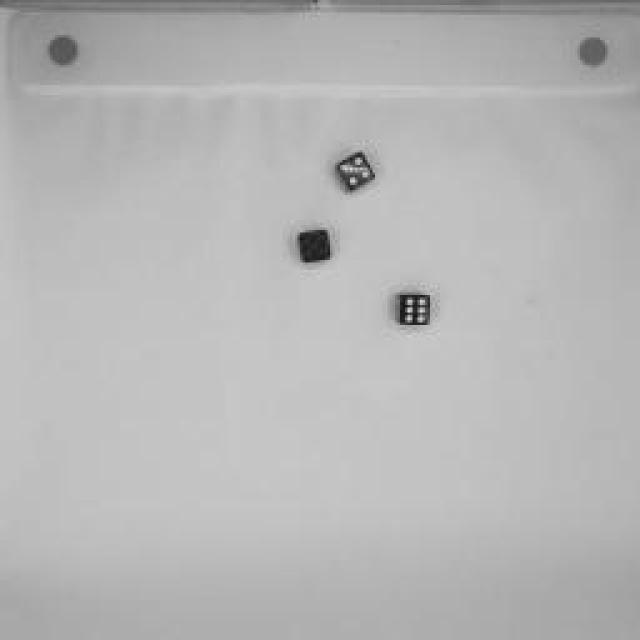dice_4: (331, 144, 381, 196)
dice_5: (292, 221, 338, 269)
dice_6: (391, 285, 439, 333)
